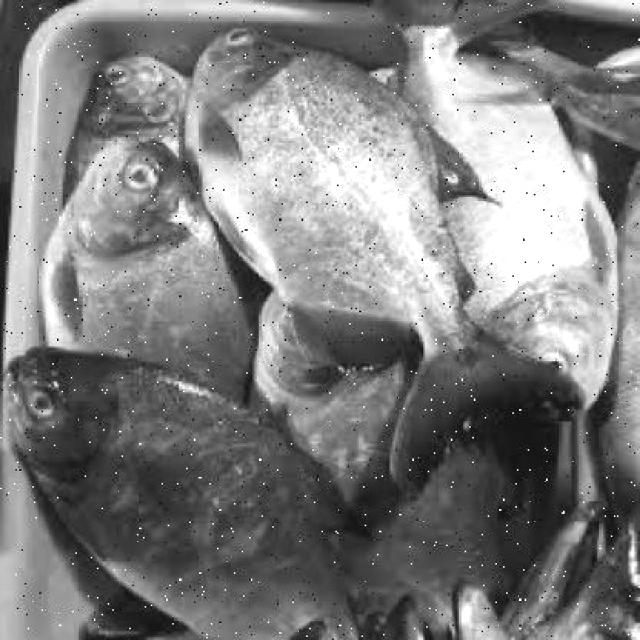ikan-pacu: (180, 20, 558, 451), (9, 340, 366, 638), (407, 9, 624, 422), (48, 116, 256, 395)
